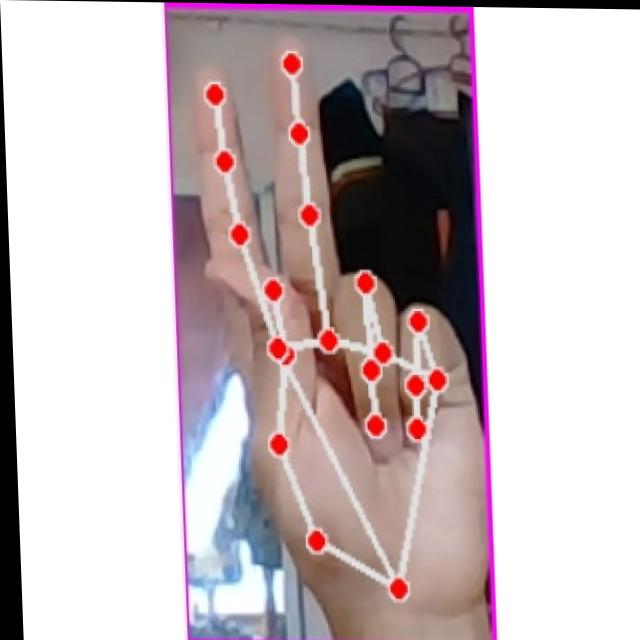K: (180, 24, 481, 626)
